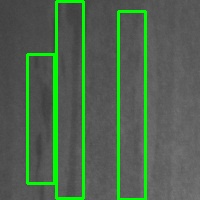inclusion: (56, 1, 83, 198), (118, 11, 145, 199), (27, 54, 54, 183)
